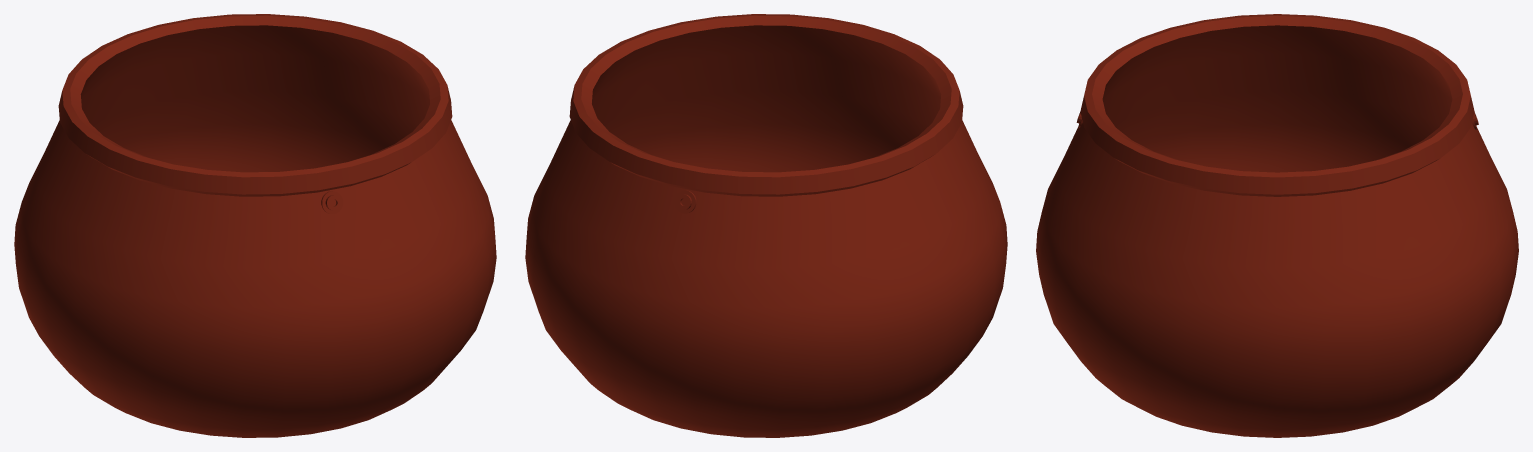
Rendered from cauldron.FBX.
3 renders of one model, left to right at view 1: azimuth 30°, elevation 25°; view 2: azimuth 150°, elevation 25°; view 3: azimuth 270°, elevation 25°, orthographic.
Parts seen in each view (by area): view 1: Cylinder002; view 2: Cylinder002; view 3: Cylinder002.
Part boxes in pixels (x1,y1,x2,y2): Cylinder002: (14,14,496,437); Cylinder002: (525,14,1007,437); Cylinder002: (1036,14,1518,437).
Size of the model in its own units: 36.27 by 22.47 by 36.27.
